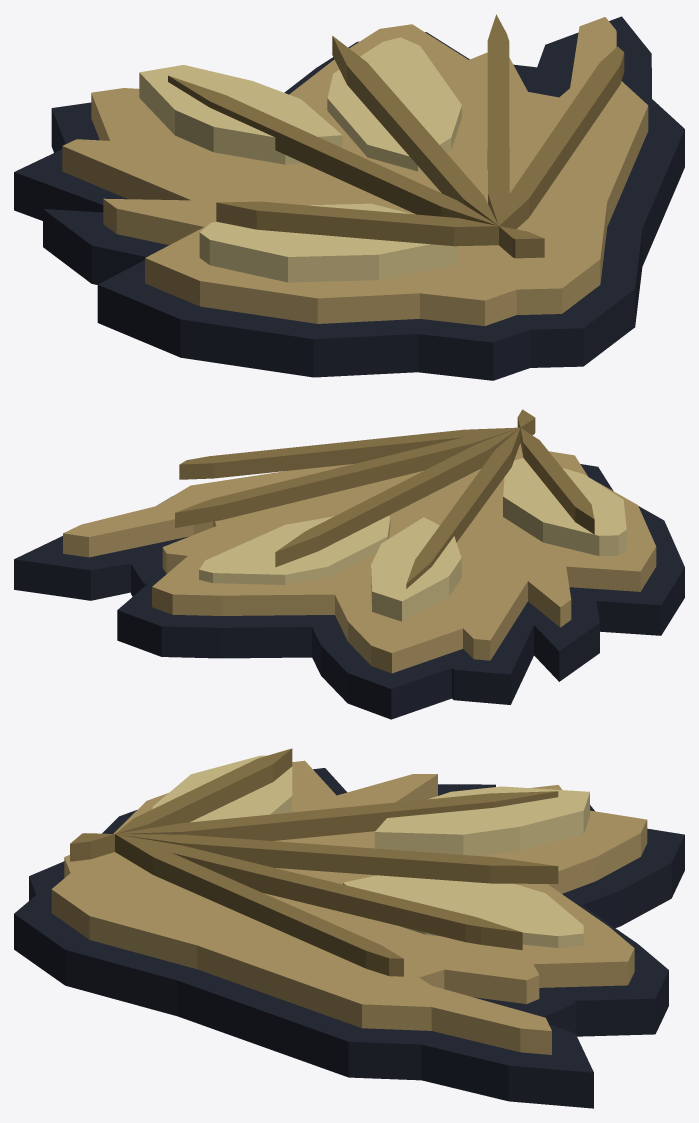
File: wheat.fbx
The picture shows the model from 3 angles, top to bottom: view 1: azimuth 30°, elevation 25°; view 2: azimuth 150°, elevation 25°; view 3: azimuth 270°, elevation 25°; orthographic projection. The views are drawn at different scales.
Visible parts, largest first — view 1: wheat; view 2: wheat; view 3: wheat.
Part boxes in pixels (box(x1,y1,x2,y2)): wheat: box(14, 14, 684, 380); wheat: box(14, 409, 684, 719); wheat: box(14, 748, 684, 1108).
Bounding box in the file's own units: 1.1 × 0.17 × 1.02.
Materials: 1 (1 with a texture image).
